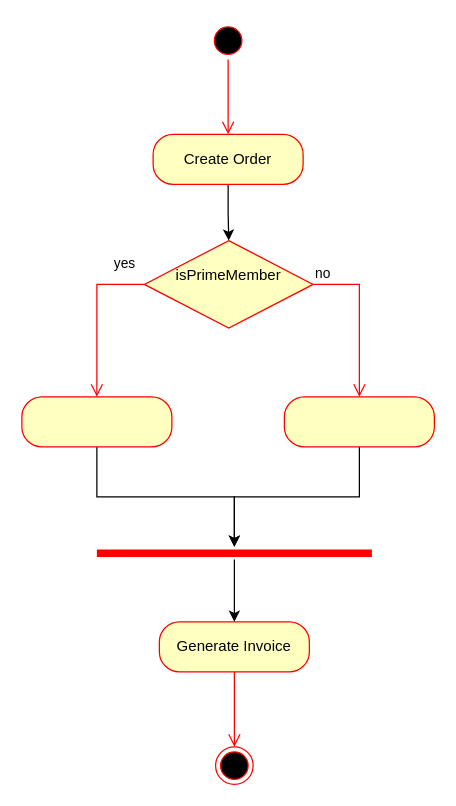
This 456x806 diagram has some shape labels left out. Here are the shapes that lost their labels. From the top down, the centre of each, then its label:
point (96, 421): Prime Dispatch
point (358, 421): Regular Dispatch
